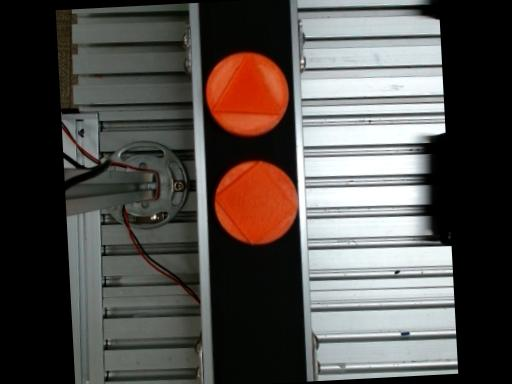Not_Square: (211, 52, 281, 115)
Orange_Waper: (204, 52, 288, 137), (213, 161, 295, 245)
Square: (212, 160, 296, 247)
